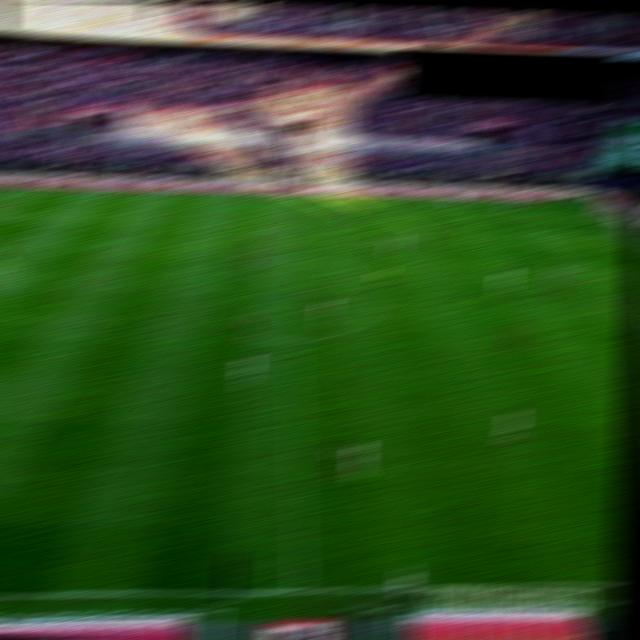bigarea_top_inner: (517, 229, 541, 237), (32, 217, 53, 226)
bigarea_top_outter: (622, 229, 637, 238)
corner: (575, 200, 596, 208)
halfcircle_bottom: (283, 337, 305, 347)
halfcircle_top: (282, 253, 303, 262)
midline_bottom_intersection: (286, 584, 313, 598)
midline_top_intersection: (279, 192, 302, 201)
top_arc_area_intersection: (558, 267, 577, 275), (0, 255, 13, 264)
